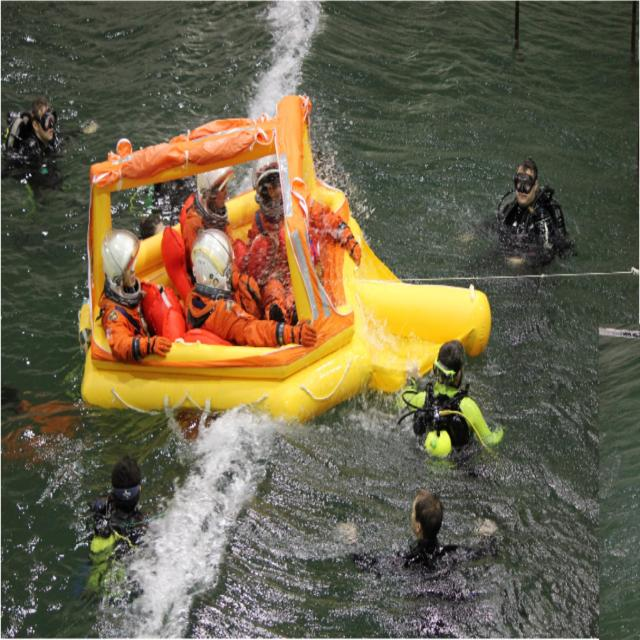Mannequin_wearing_orange-colored_life_preserver_unit_ LPU: (160, 193, 247, 307), (139, 278, 234, 346)
Multi-person_life_raft: (77, 92, 491, 424)
